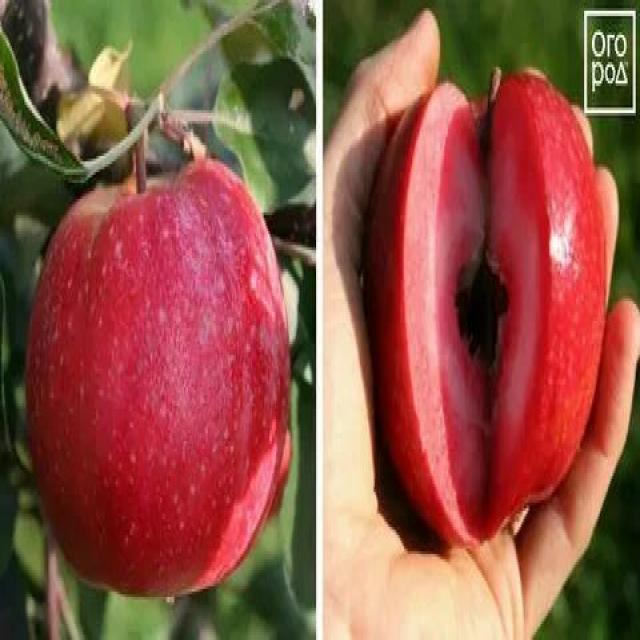Fresh Apple: (33, 175, 297, 598)
